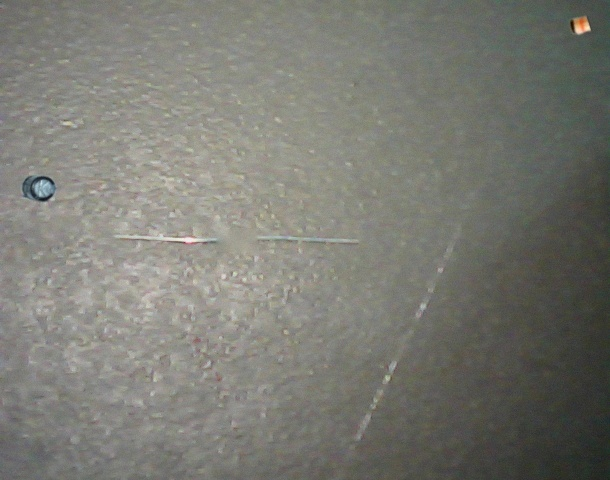capacitor: (22, 175, 56, 202)
resistor: (570, 16, 591, 34)
